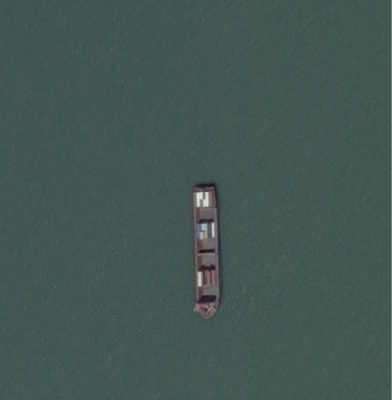boat: (191, 183, 224, 322)
